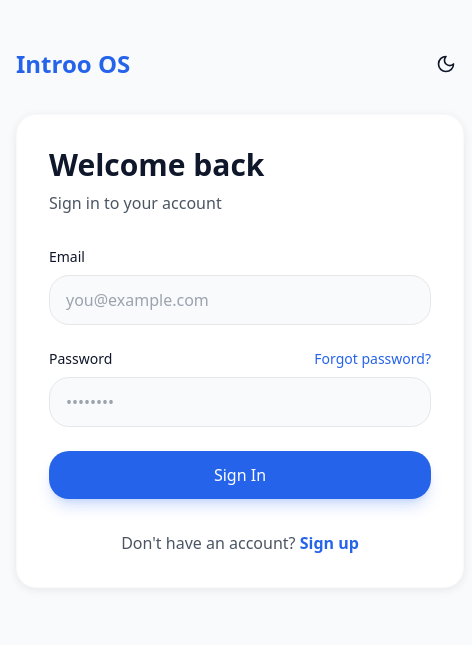
Test: Login Component › displays error message on failed login
This screenshot has width=472, height=645.
Type "test@example.com" into the field with placeholder "you@example.com" at (240, 300), box [49,275,431,325]
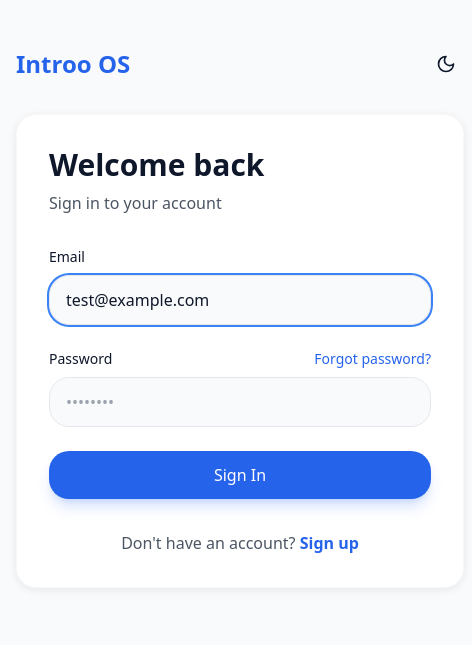
Type "wrongpassword" into the password field with placeholder "••••••••" at (240, 402), box [49,377,431,427]
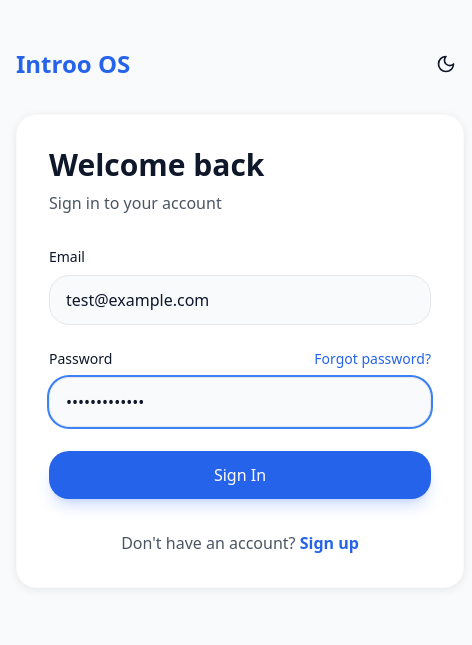
Click the button "Sign In" at (240, 475), box [49,451,431,499]
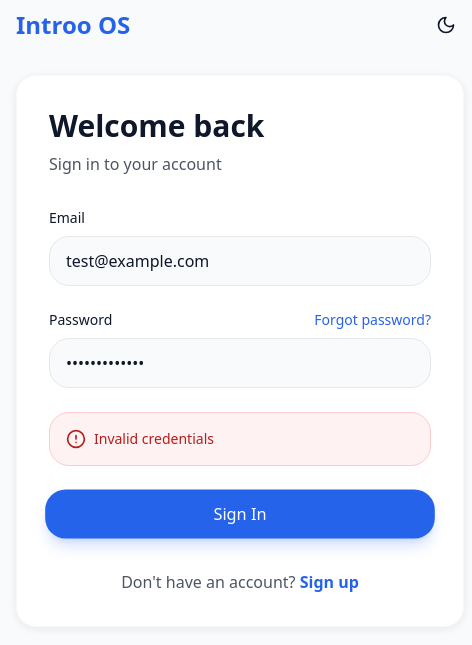
Now the text "Invalid credentials" is shown, box [94,429,214,449]
